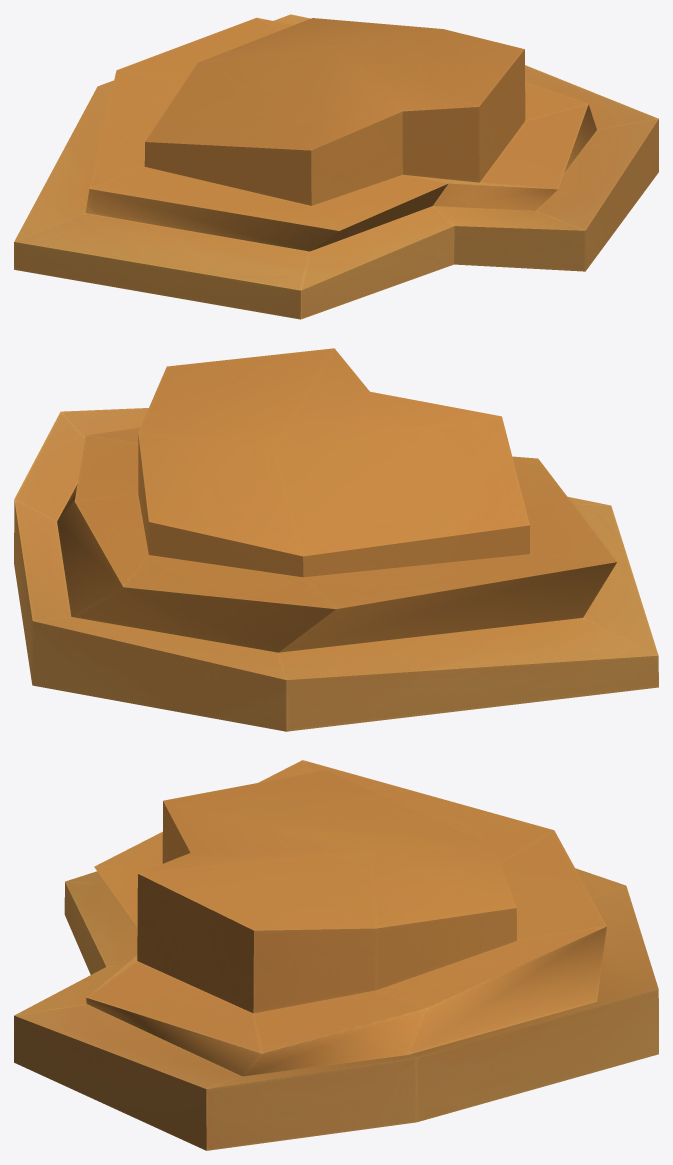
File: desert-stone-big2.fbx
3 renders of one model, top to bottom at view 1: azimuth 30°, elevation 25°; view 2: azimuth 150°, elevation 25°; view 3: azimuth 270°, elevation 25°, orthographic. The views are drawn at different scales.
Visible parts, largest first — view 1: pPlane2; view 2: pPlane2; view 3: pPlane2.
Part boxes in pixels (box(x1,y1,x2,y2)): pPlane2: box(14, 14, 658, 319); pPlane2: box(14, 348, 658, 731); pPlane2: box(14, 760, 658, 1150).
Bounding box in the file's own units: 8.29 × 1.88 × 6.88.
1 material, 1 textured.
